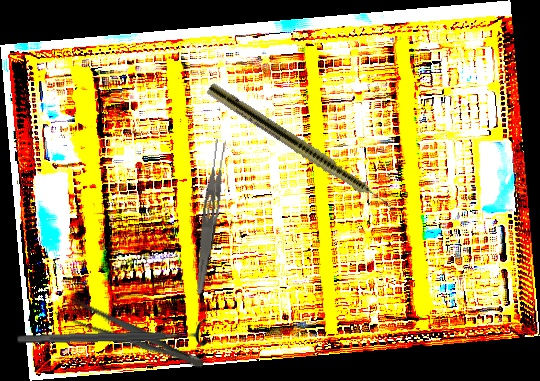Dressing Forceps: (52, 292, 209, 377), (192, 137, 230, 296)
Fixation Ring: (16, 317, 209, 355)
Handpiece: (203, 81, 406, 220)
